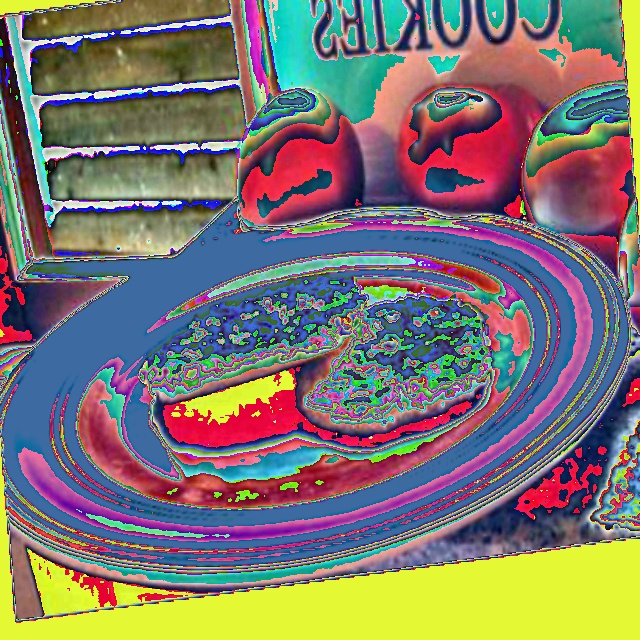background: (138, 162, 494, 432), (246, 80, 639, 321), (129, 84, 366, 227)
